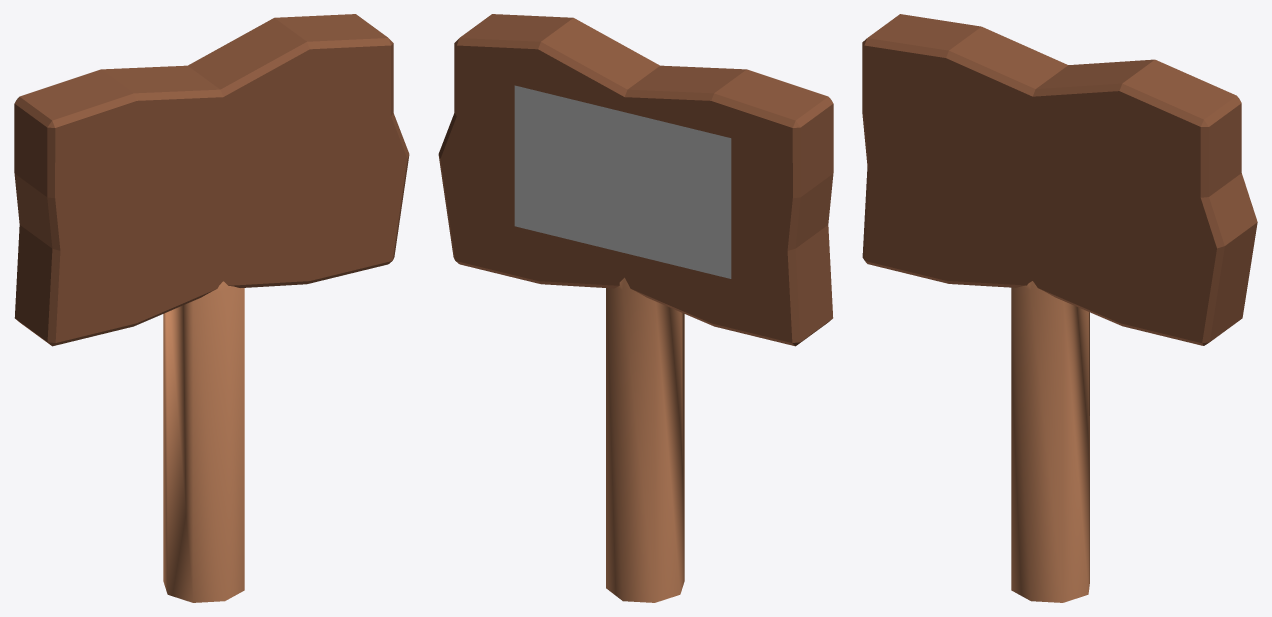
File: sign.fbx
3 renders of one model, left to right at view 1: azimuth 30°, elevation 25°; view 2: azimuth 150°, elevation 25°; view 3: azimuth 330°, elevation 25°, orthographic.
Parts seen in each view (by area): view 1: sign; view 2: sign; view 3: sign.
Part boxes in pixels (x1=…): sign: x1=14, y1=14, x2=409, y2=602; sign: x1=438, y1=14, x2=833, y2=602; sign: x1=862, y1=14, x2=1257, y2=602.
Size of the model in its own units: 144 by 203 by 28.97.
